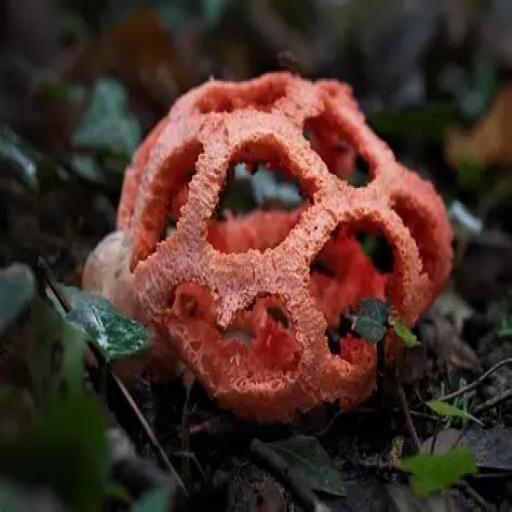Red Cage Fungus: (83, 71, 453, 434)
